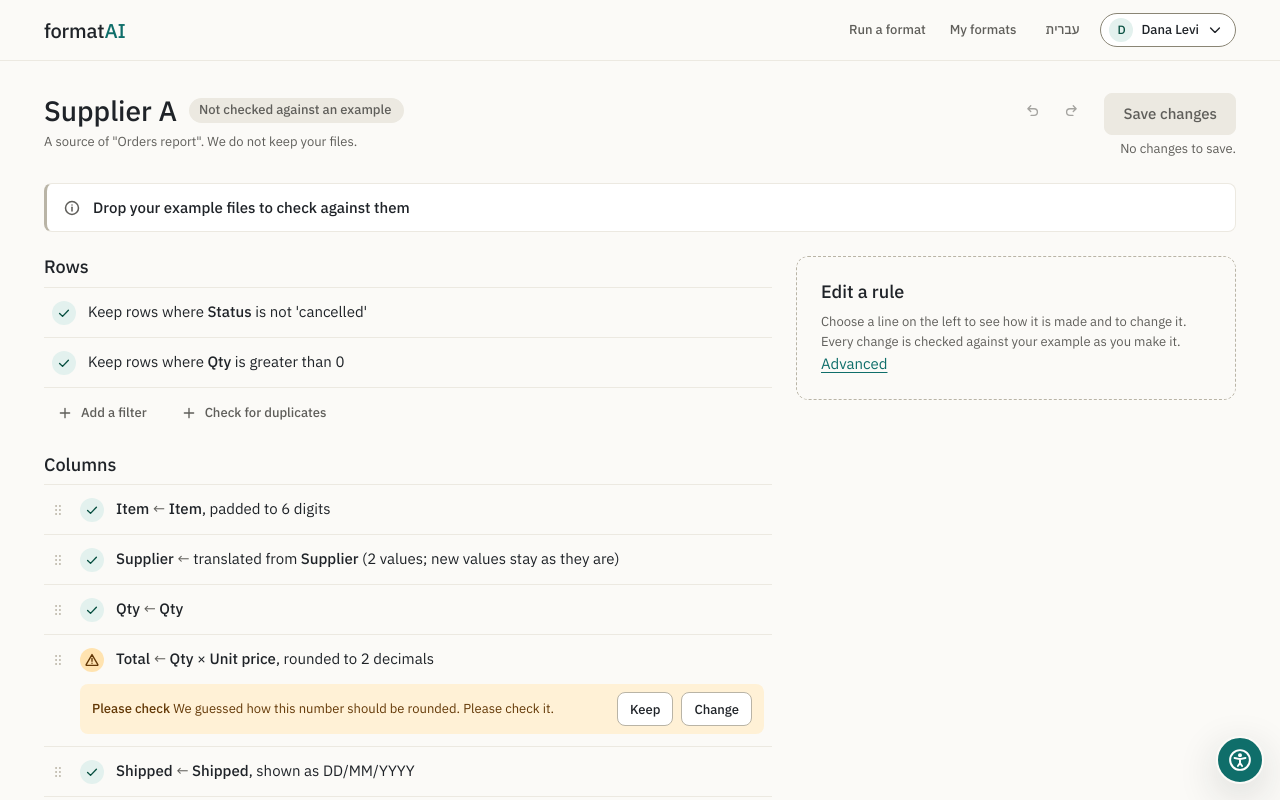
Test: an edit that changes the format (the output side) › says "This changes the format for all N sources" BEFORE saving, once
Expected: the message "Drop your example files to check against them" is shown, [93,198,410,217]
Click the button "Total ← Qty × Unit price, rounded to 2 decimals". click: point(422, 660)
box: [72,635,772,684]
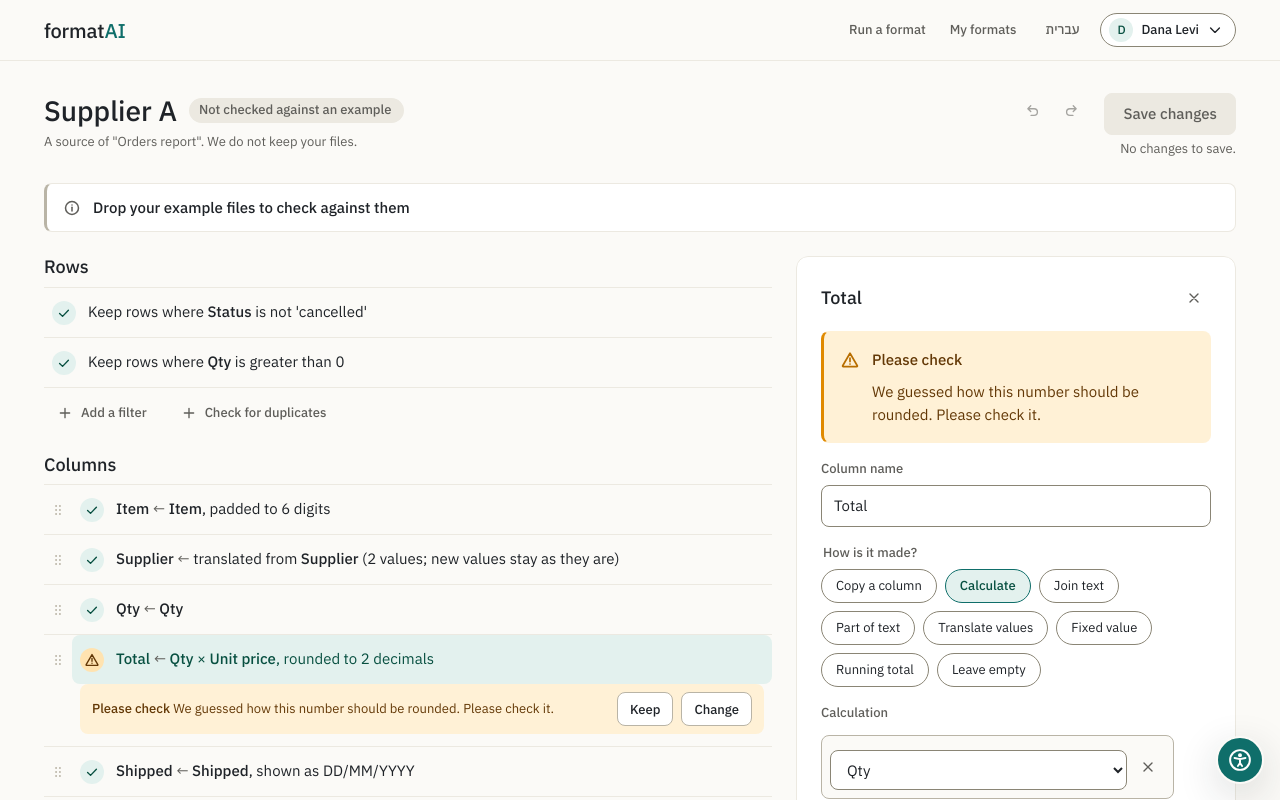
Replace the text in the field labelled "Column name" with "Grand total". click: point(1016, 506)
box: [821,485,1211,527]
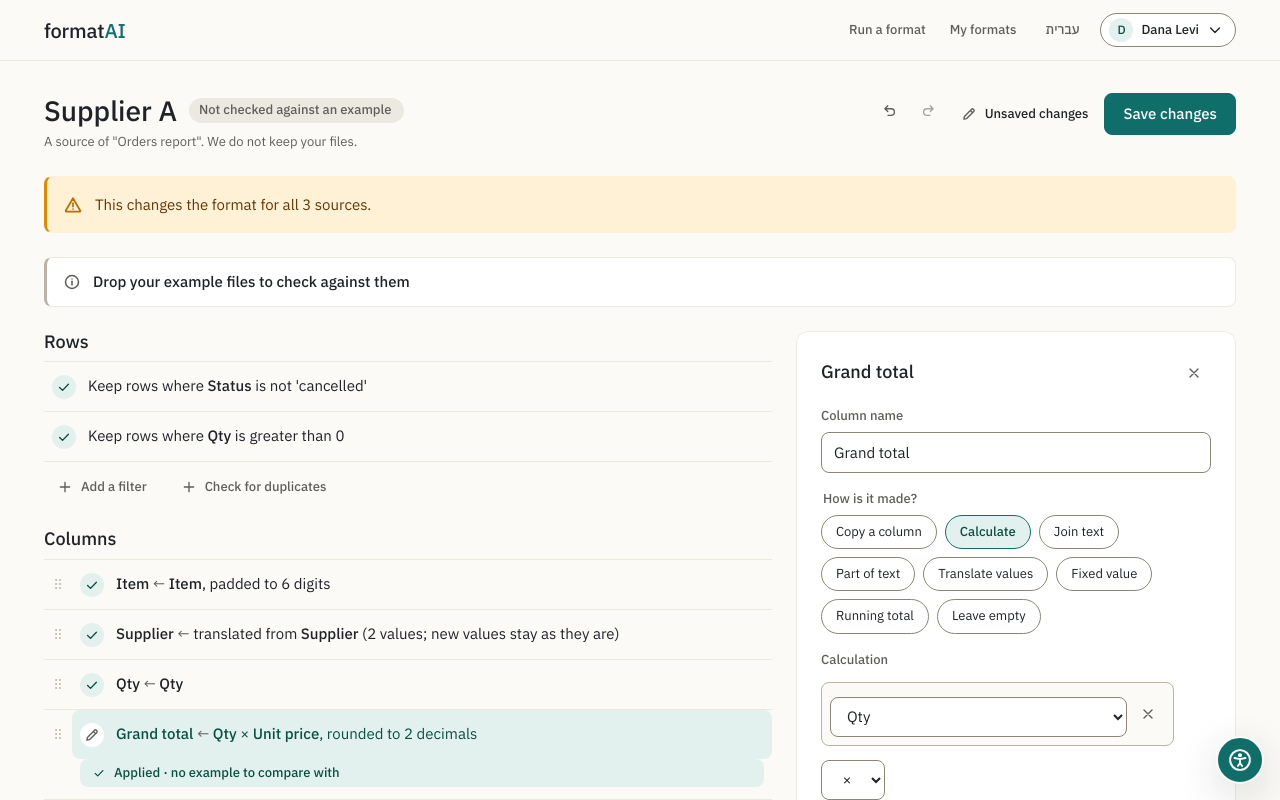
Now the text "This changes the format for all 3 sources." is shown once, box [95,193,372,216]
Now the element with test id "format-change-warning" is shown, box [44,176,1236,233]
